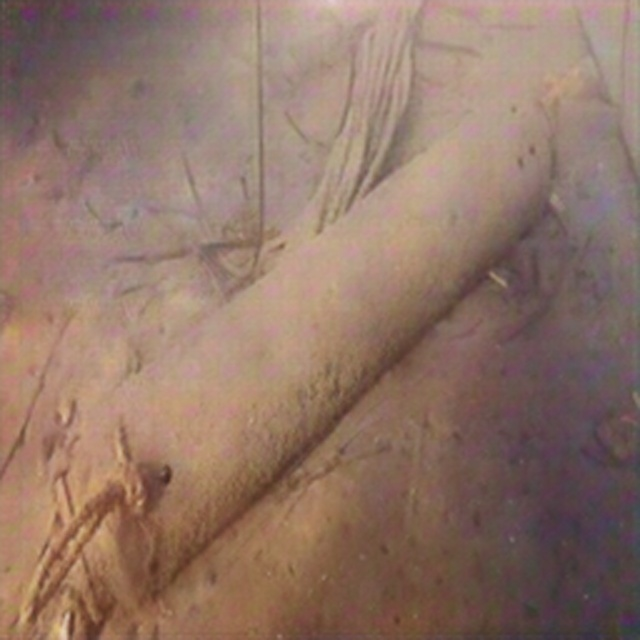mine: (53, 91, 557, 623)
